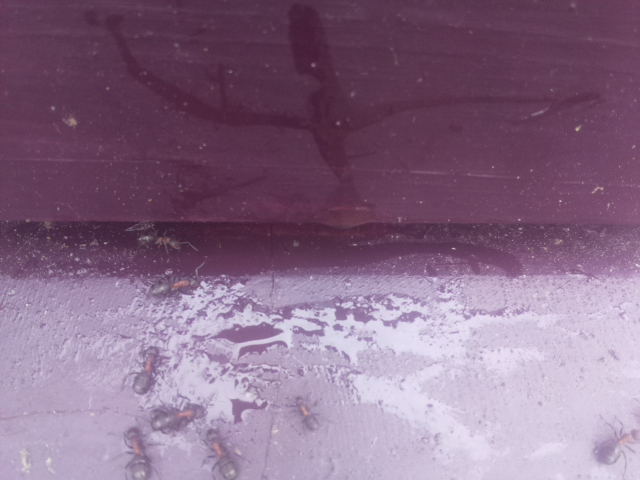ant: (199, 419, 244, 480), (589, 420, 640, 473), (118, 415, 155, 480), (143, 398, 203, 437), (128, 341, 166, 402), (147, 276, 203, 299), (291, 395, 322, 434), (132, 229, 184, 250)
